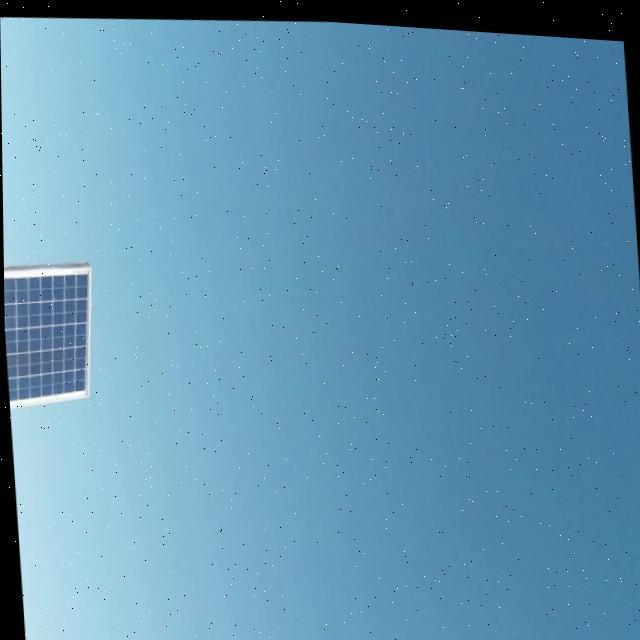Normal Solar Panel: (3, 261, 99, 414)
